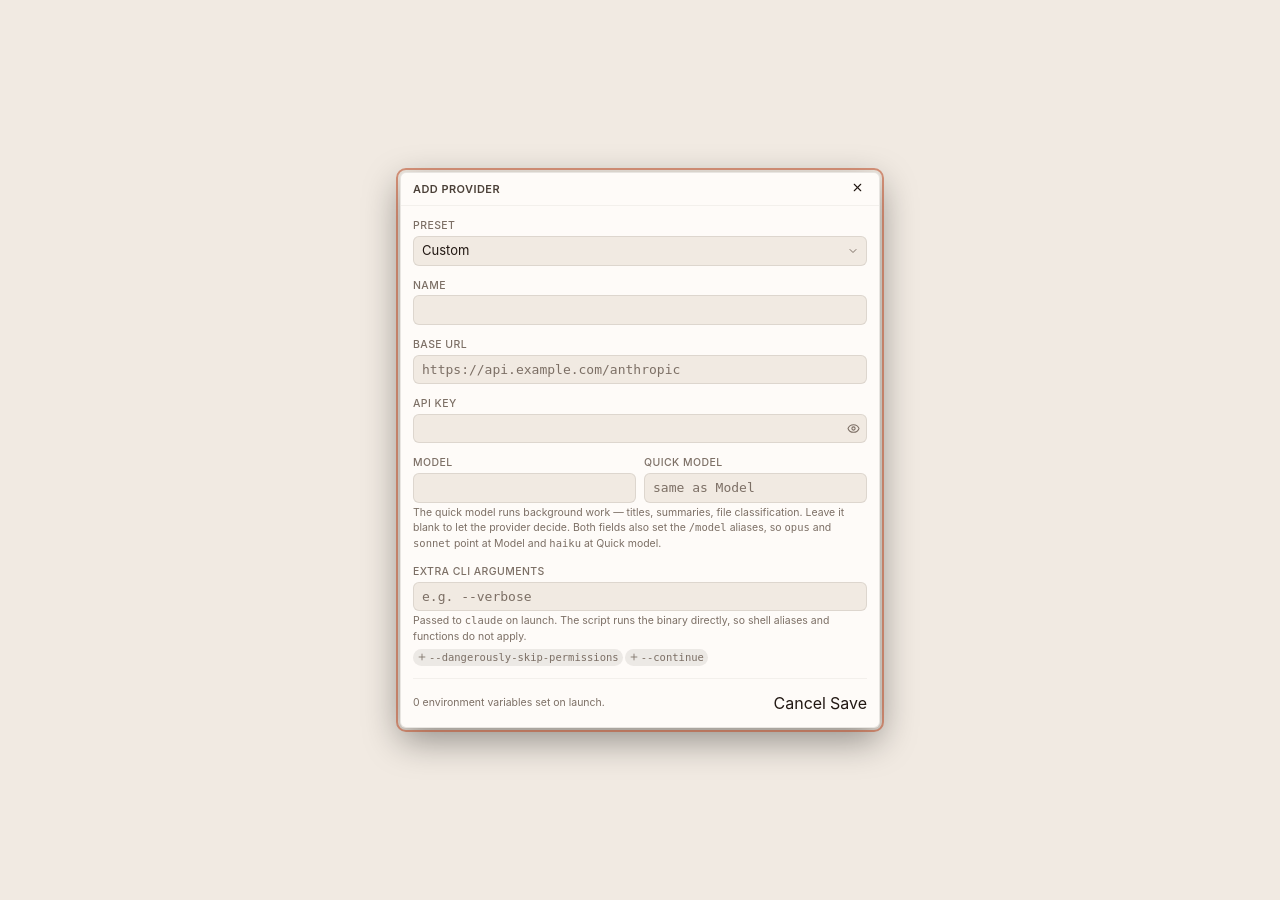
Test: ProviderForm › adds a common flag to the field when its chip is clicked
The width and height of the screenshot is (1280, 900).
Expected: the dropdown labelled "Preset" is shown, [413,236,867,266]
Expected: the field labelled "Extra CLI arguments" is empty, [413,582,867,611]
Click the button "--dangerously-skip-permissions" at [518, 657], box [413,648,623,666]
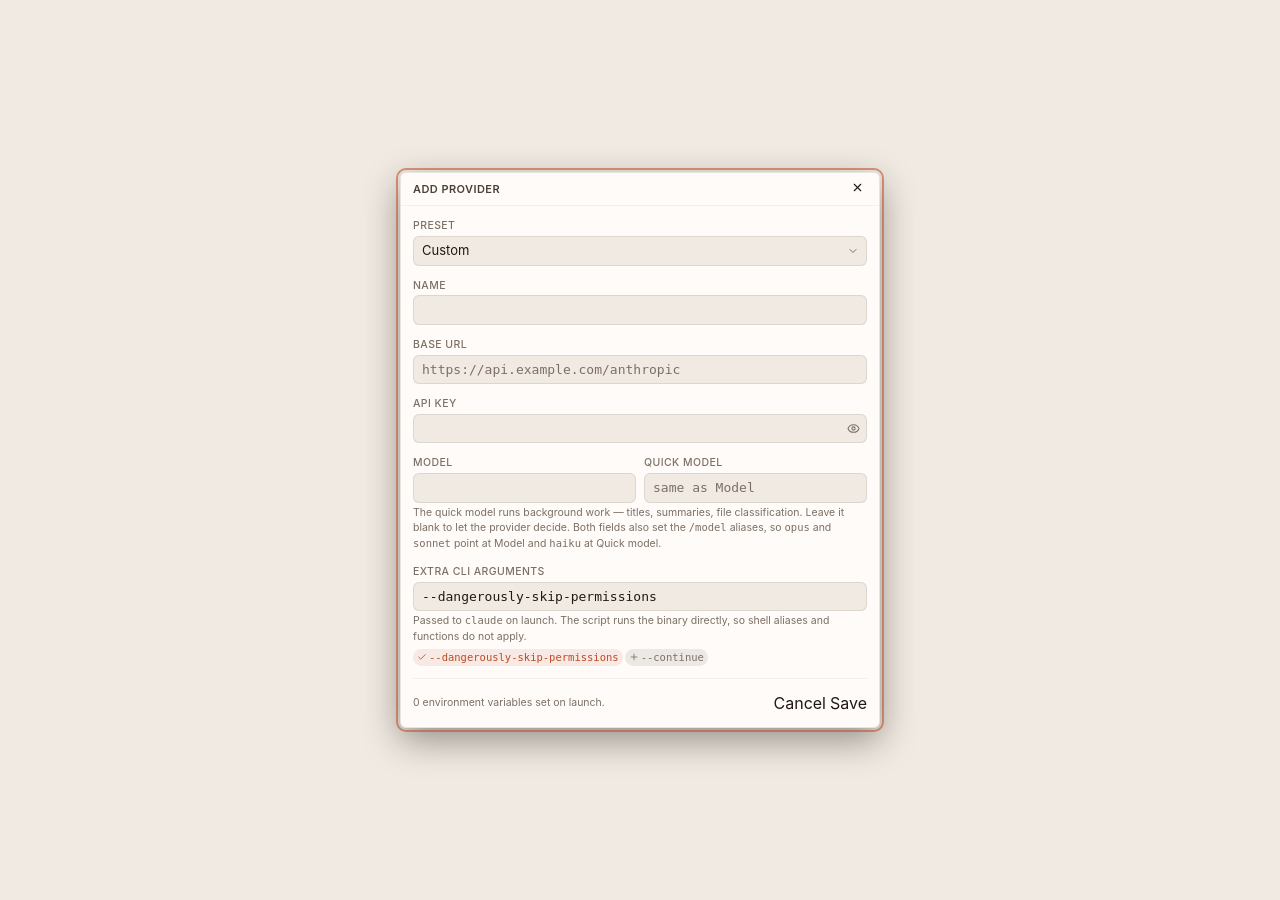
Expected: the field labelled "Extra CLI arguments" holds "--dangerously-skip-permissions", [413,582,867,611]
Click the button "--continue" at [666, 657], box [625,648,708,666]
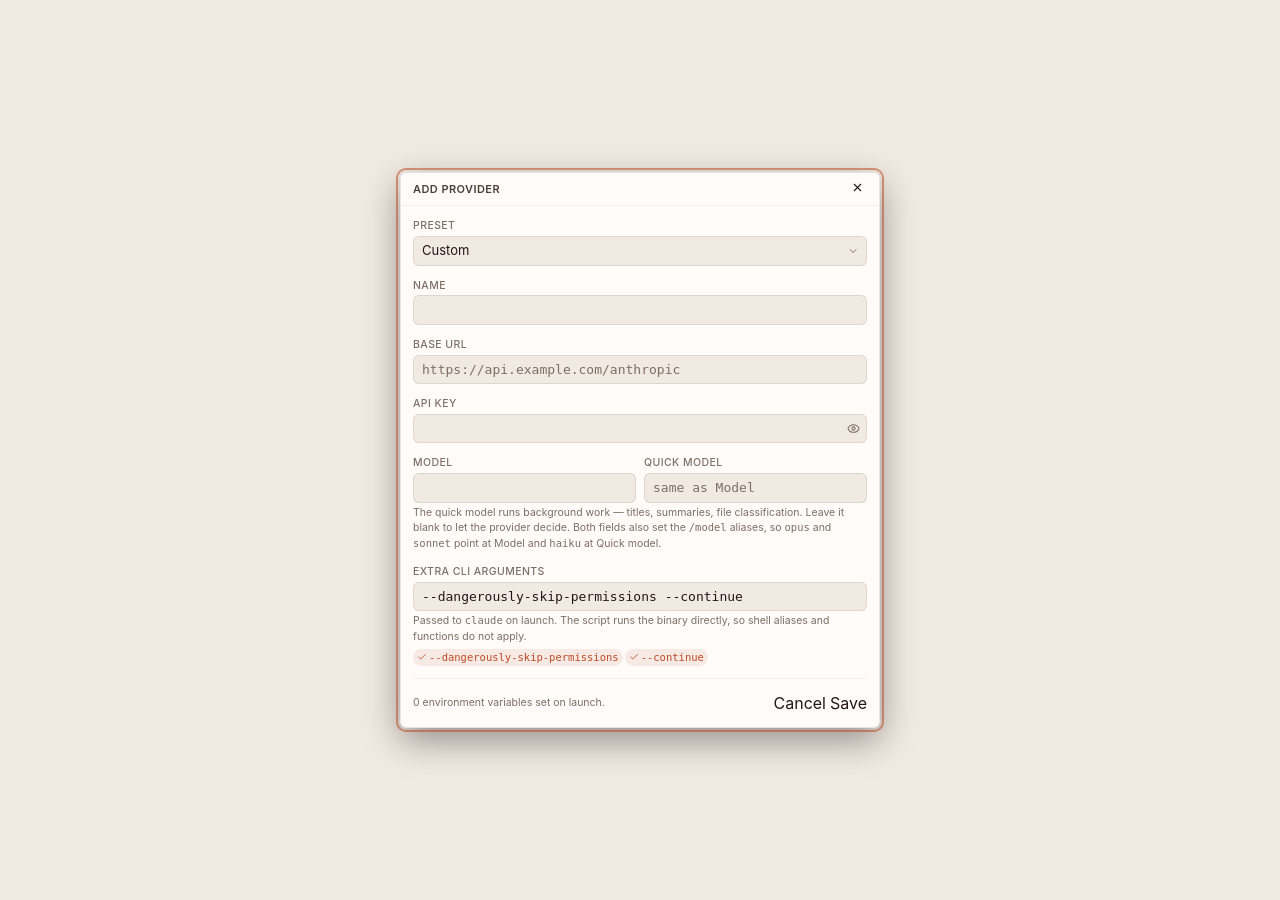
Expected: the field labelled "Extra CLI arguments" holds "--dangerously-skip-permissions --continue", [413,582,867,611]
